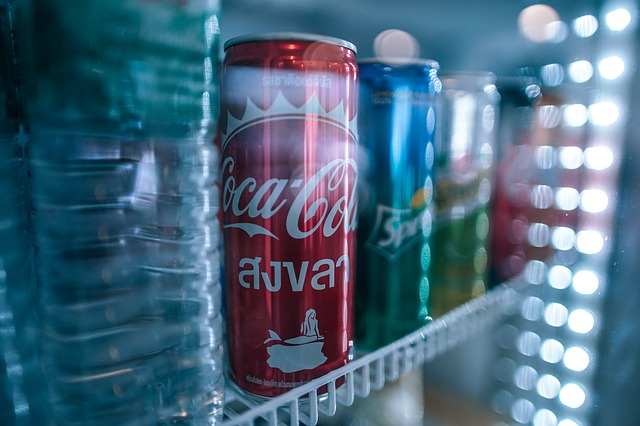can: (222, 20, 358, 400), (355, 52, 435, 339)
